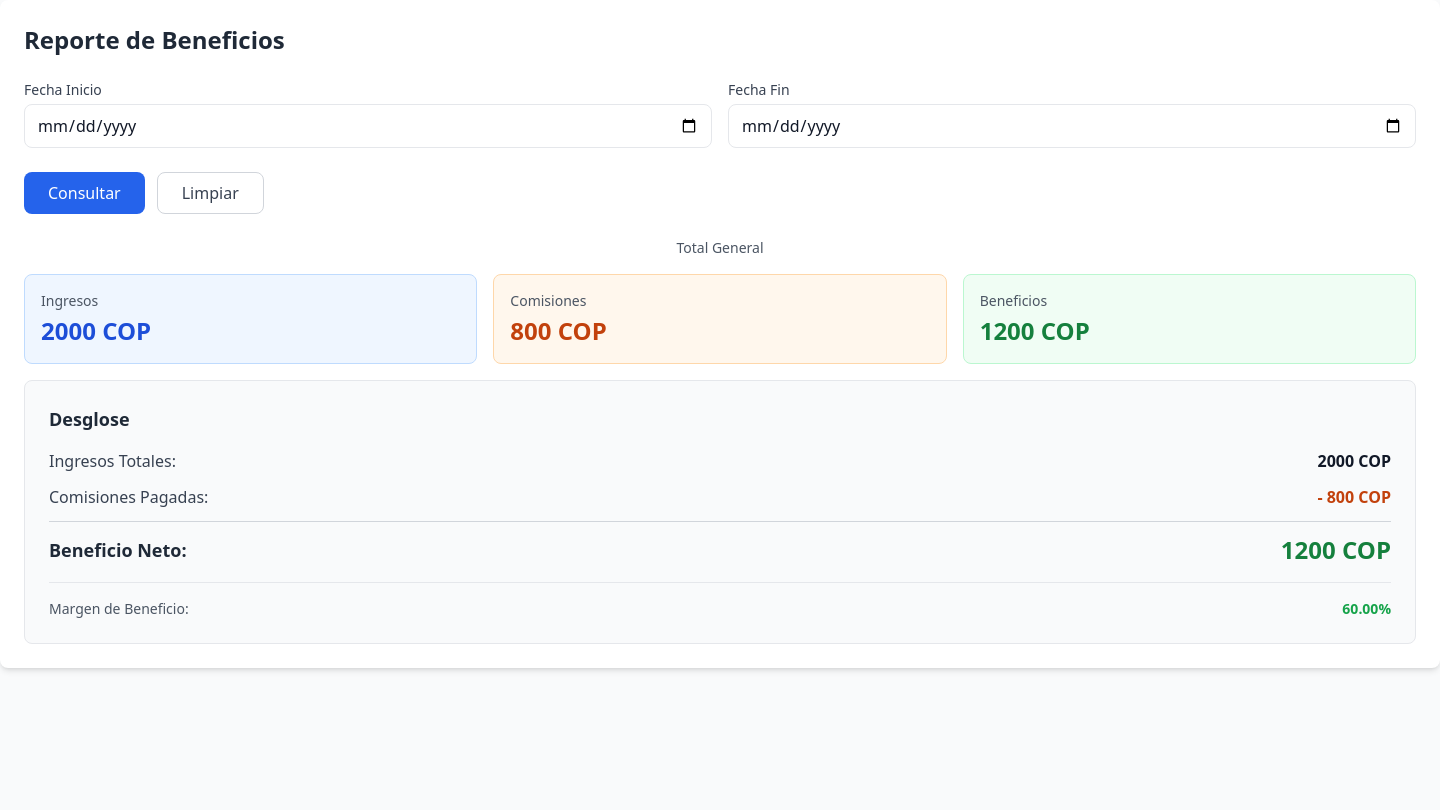
BeneficiosReport › limpia filtros y resultado al hacer clic en "Limpiar"
// Establecer fechas
Type "2024-01-01" into the date field below "Fecha Inicio".
click(368, 126); type("2024-01-01")  # box [24,104,712,148]
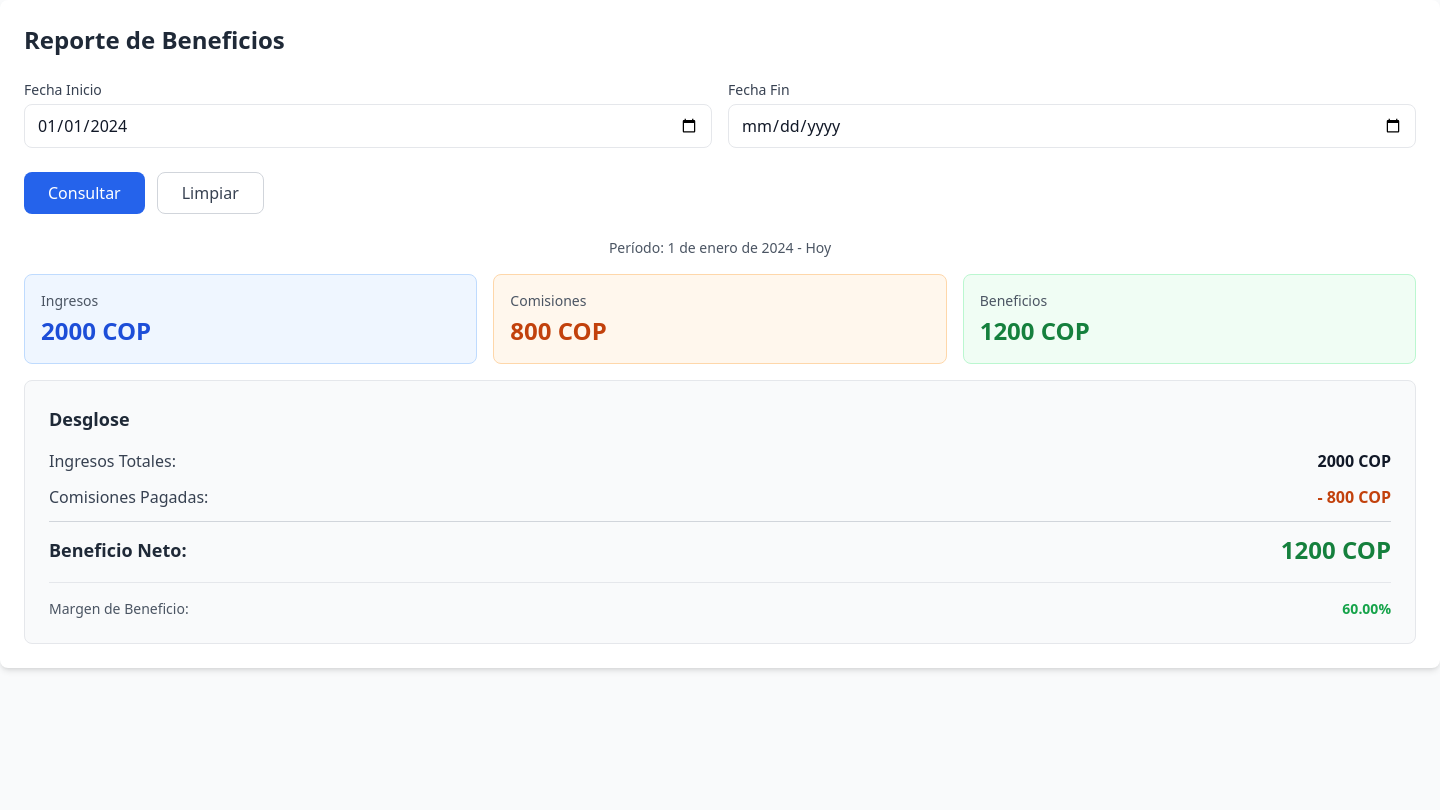
Type "2024-01-31" into the date field below "Fecha Fin".
click(1072, 126); type("2024-01-31")  # box [728,104,1416,148]
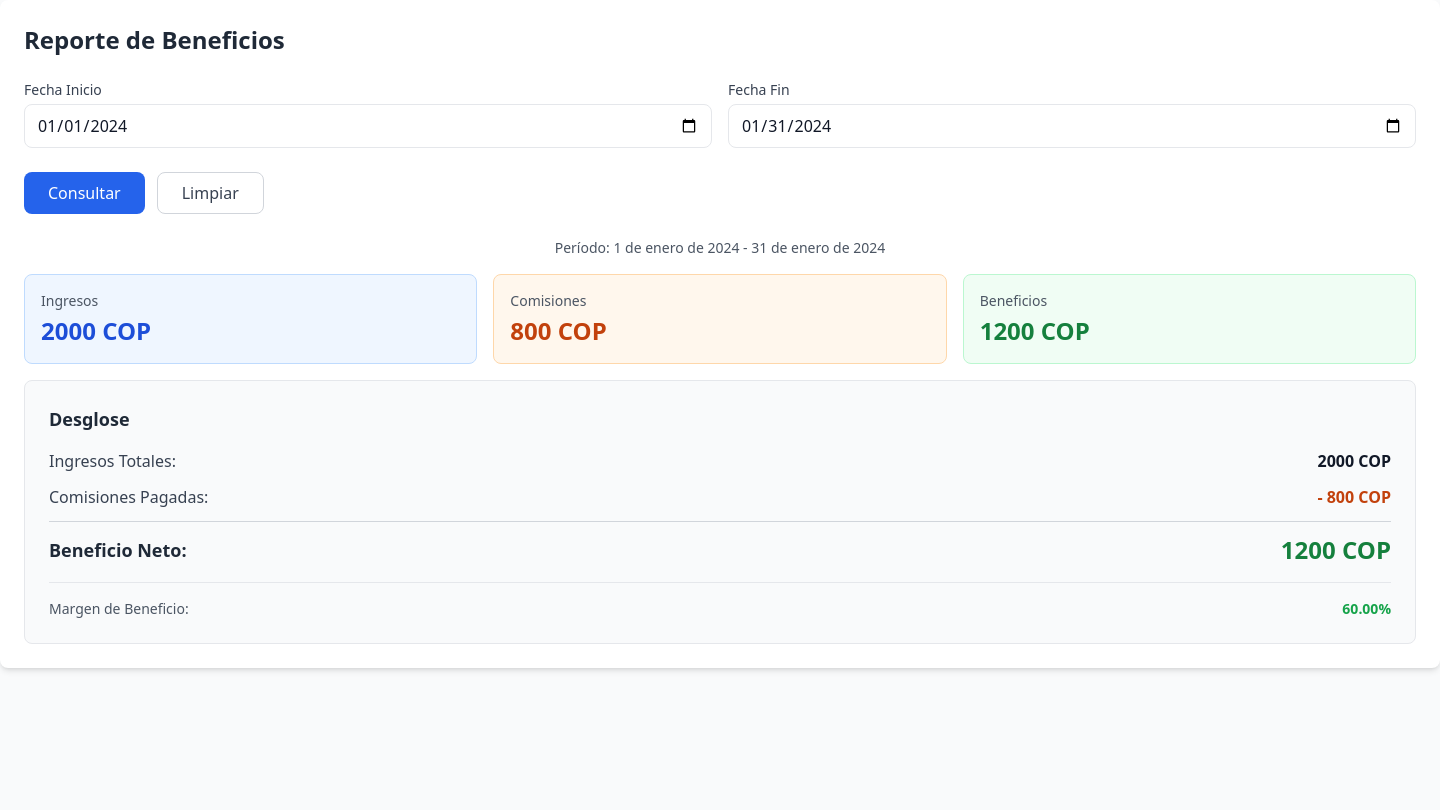
Click the button "Limpiar".
click(210, 193)  # box [157,172,264,214]
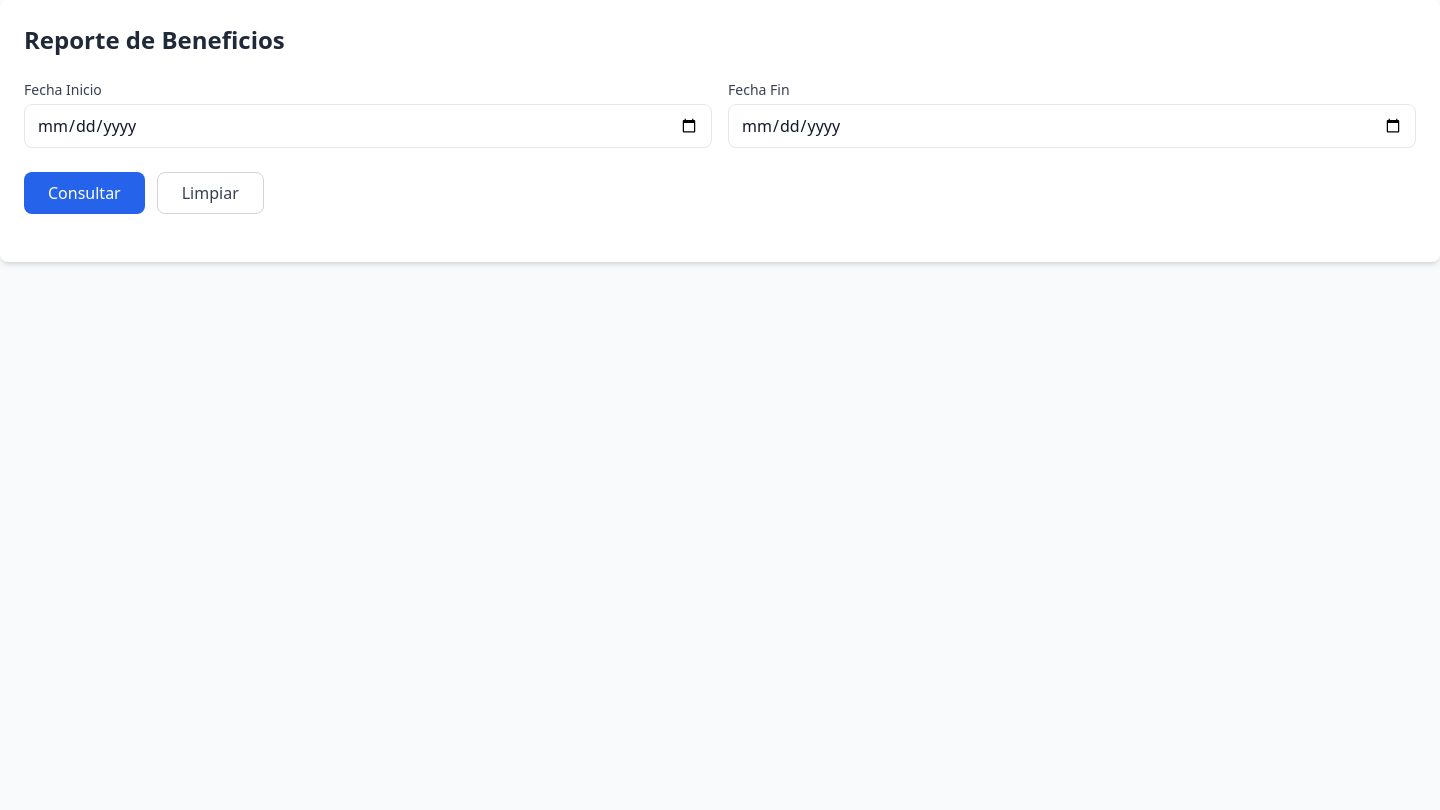
Now the date field below "Fecha Inicio" is empty, box [24,104,712,148]
Now the date field below "Fecha Fin" is empty, box [728,104,1416,148]
